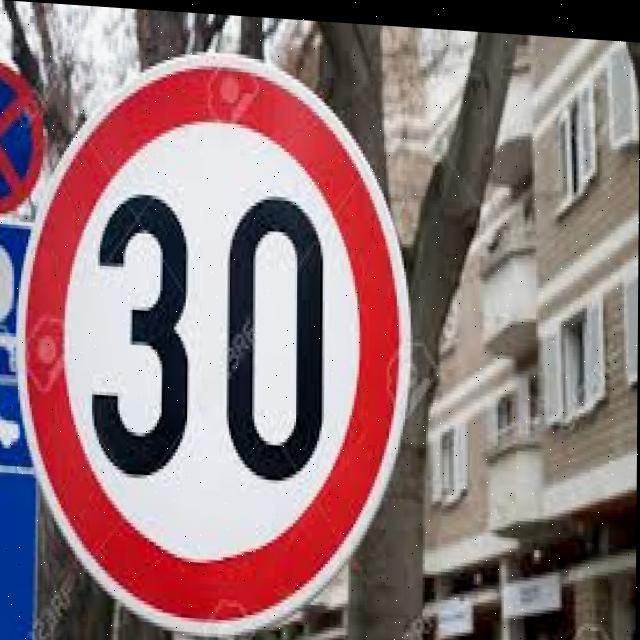Speed limit 30: (13, 37, 416, 640)
